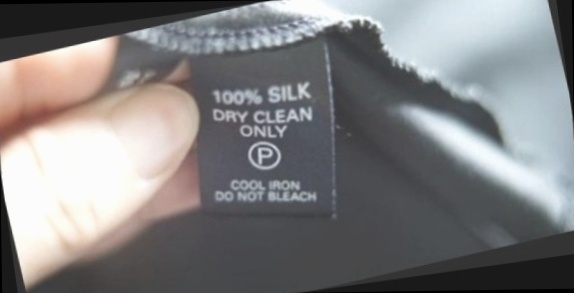dry_clean_any_solvent_except_trichloroethylene: (242, 133, 289, 176)
